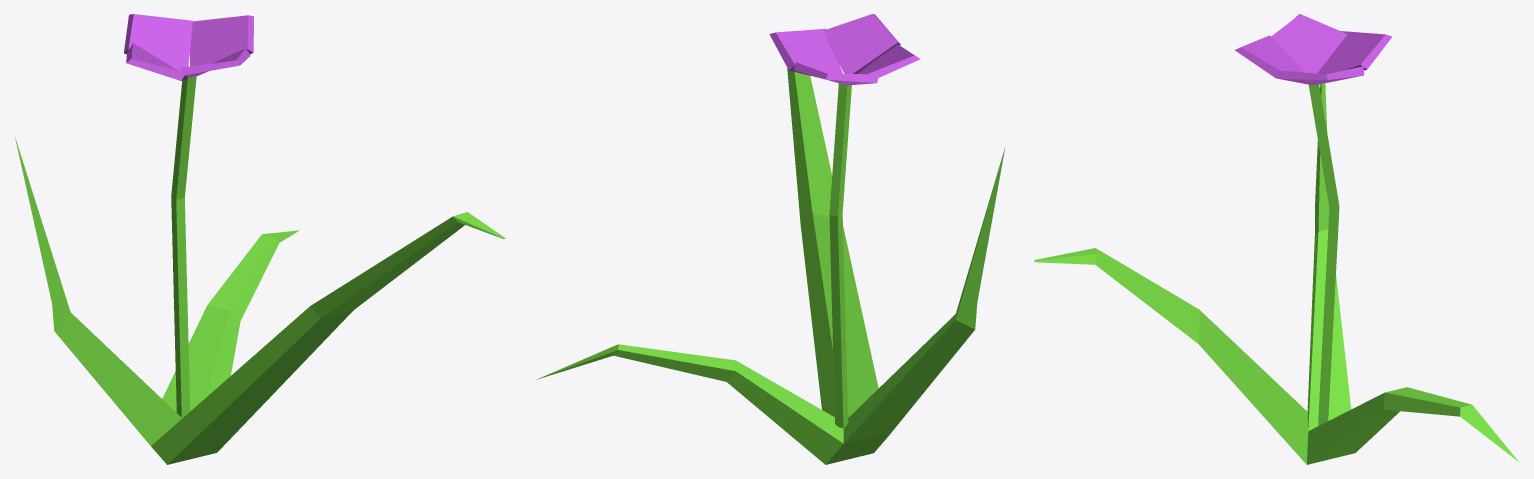
File: fror2.fbx
The picture shows the model from 3 angles, left to right: view 1: azimuth 30°, elevation 25°; view 2: azimuth 150°, elevation 25°; view 3: azimuth 270°, elevation 25°; orthographic projection. The views are drawn at different scales.
Visible parts, largest first — view 1: Cone, Cubo; view 2: Cone, Cubo; view 3: Cone, Cubo.
Boxes of the visible parts, <box> form: Cone: <box>15,75,505,464</box>; Cubo: <box>124,14,253,80</box>; Cone: <box>536,68,1005,464</box>; Cubo: <box>769,14,920,85</box>; Cone: <box>1034,83,1518,464</box>; Cubo: <box>1235,14,1392,84</box>.
Size of the model in its own units: 148 by 154 by 164.
